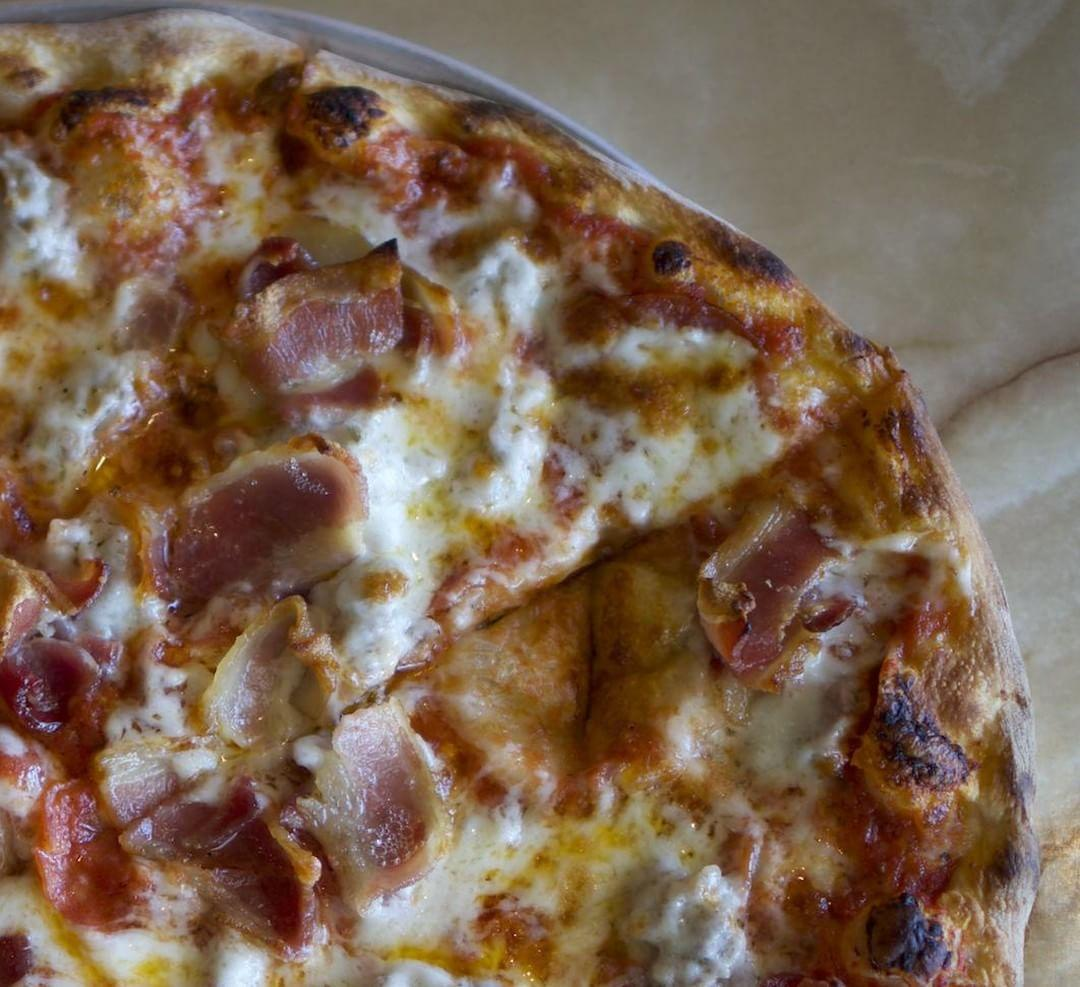Bacon: (211, 601, 460, 883), (91, 747, 321, 948), (126, 442, 371, 625), (692, 502, 839, 686), (237, 249, 416, 398), (9, 612, 132, 777), (29, 777, 154, 934)
Pizza: (4, 21, 1025, 987)
